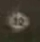limite 50: (4, 10, 31, 33)
